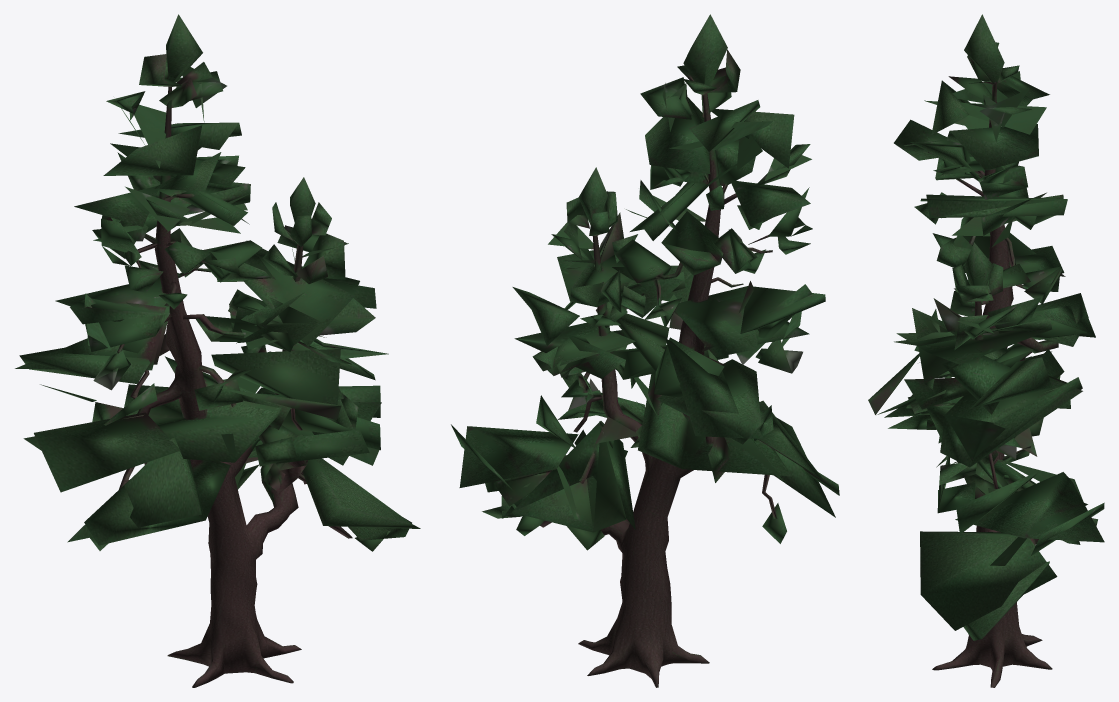
The model's file is pine.glb.
3 renders of one model, left to right at view 1: azimuth 30°, elevation 25°; view 2: azimuth 150°, elevation 25°; view 3: azimuth 270°, elevation 25°, orthographic. The views are drawn at different scales.
Size of the model in its own units: 0.5269 by 0.9541 by 0.332.
1 material, 1 textured.
